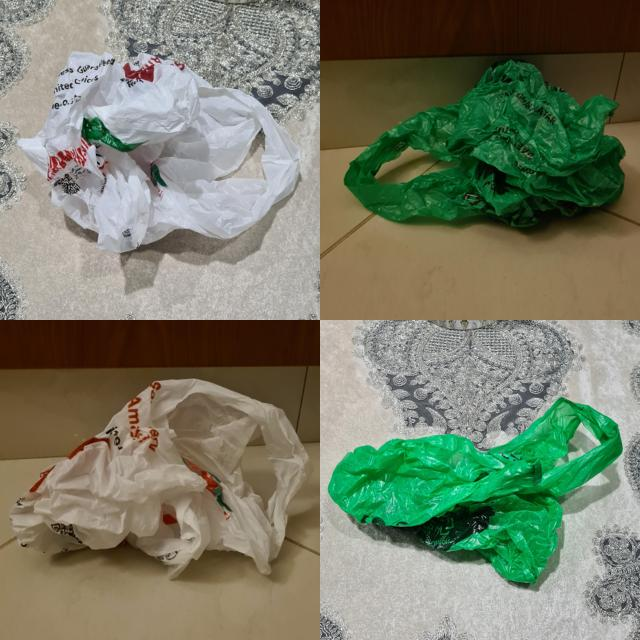Single-layer Plastic: (10, 379, 310, 579), (19, 52, 300, 252), (328, 398, 622, 584), (344, 60, 625, 226)
